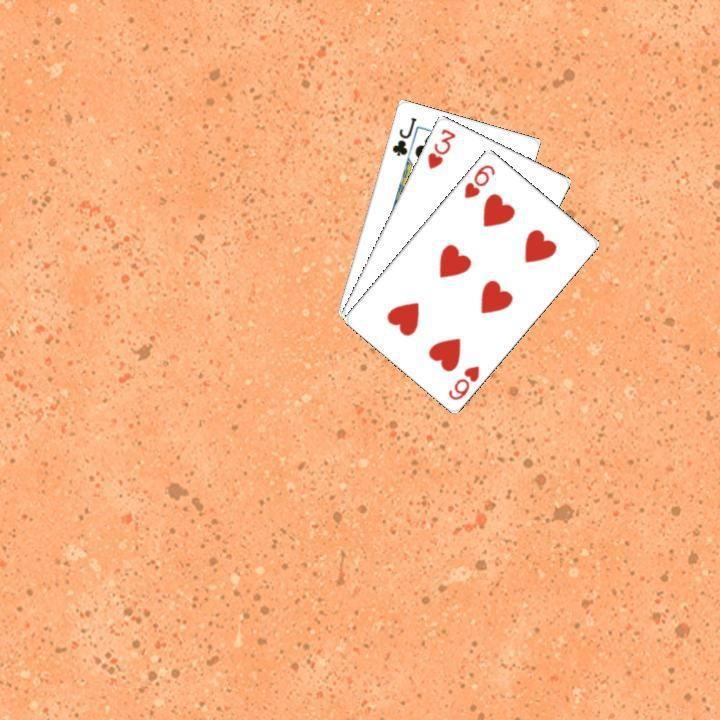3: (423, 124, 458, 171)
6: (443, 361, 482, 402), (459, 160, 497, 200)
J: (387, 112, 418, 158)
